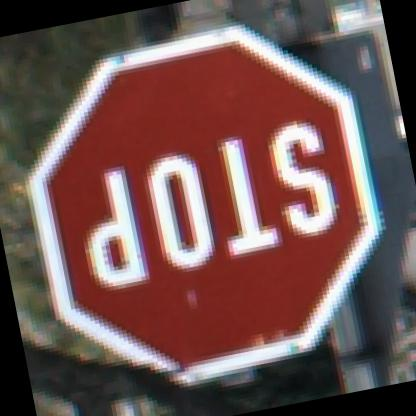stop: (1, 0, 414, 415)
